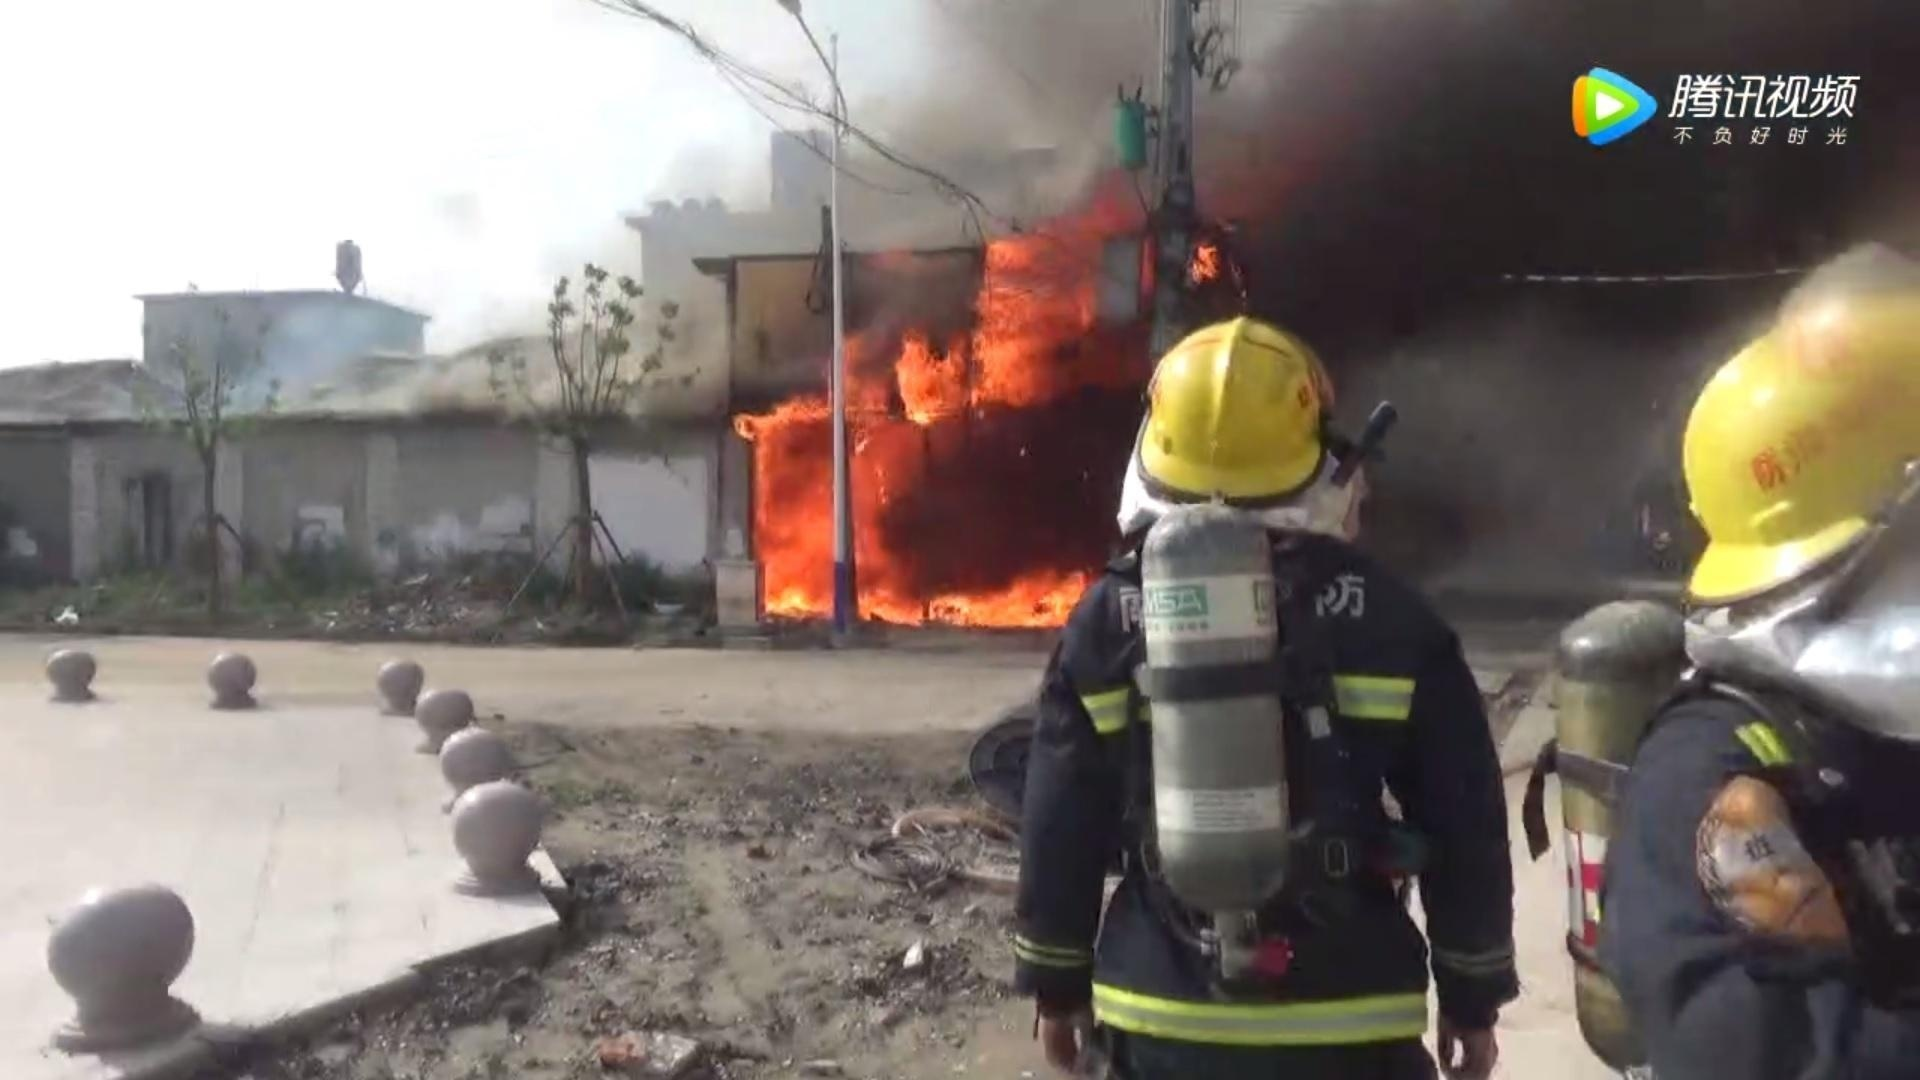fire: (748, 219, 1125, 632)
